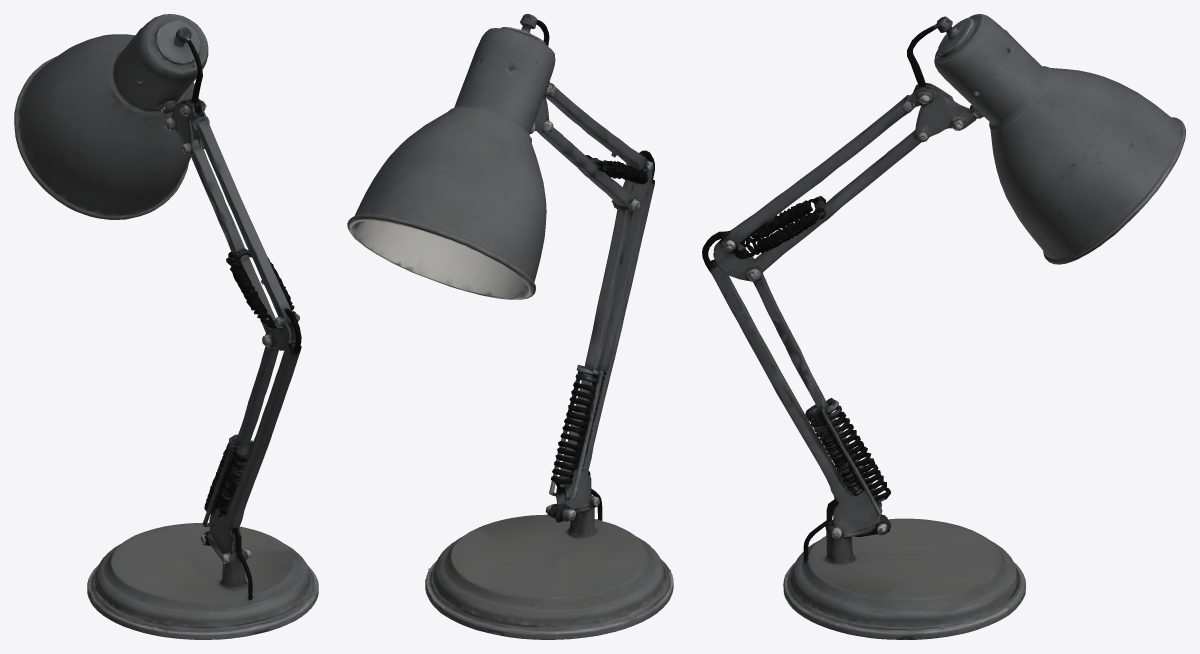
File: desk-lamp.glb
The picture shows the model from 3 angles, left to right: view 1: azimuth 30°, elevation 25°; view 2: azimuth 150°, elevation 25°; view 3: azimuth 270°, elevation 25°; orthographic projection. The views are drawn at different scales.
Visible parts, largest first — view 1: tripo_node_01a217dc-47ea-70b7-ad89-fb306e7b5f8c; view 2: tripo_node_01a217dc-47ea-70b7-ad89-fb306e7b5f8c; view 3: tripo_node_01a217dc-47ea-70b7-ad89-fb306e7b5f8c.
Part boxes in pixels (bbox=[...]): tripo_node_01a217dc-47ea-70b7-ad89-fb306e7b5f8c: bbox=[14, 14, 318, 639]; tripo_node_01a217dc-47ea-70b7-ad89-fb306e7b5f8c: bbox=[347, 14, 673, 639]; tripo_node_01a217dc-47ea-70b7-ad89-fb306e7b5f8c: bbox=[702, 14, 1185, 639].
Bounding box in the file's own units: 0.3819 × 1 × 0.7659.
1 material, 1 textured.
